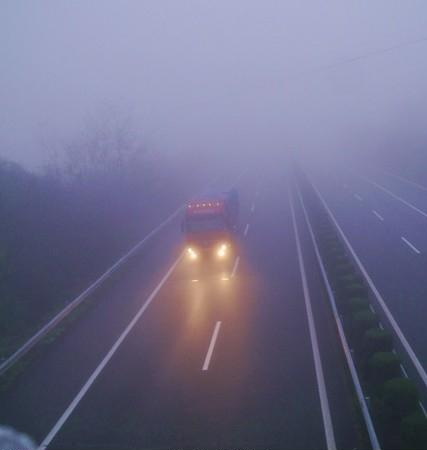bus: (177, 182, 237, 264)
